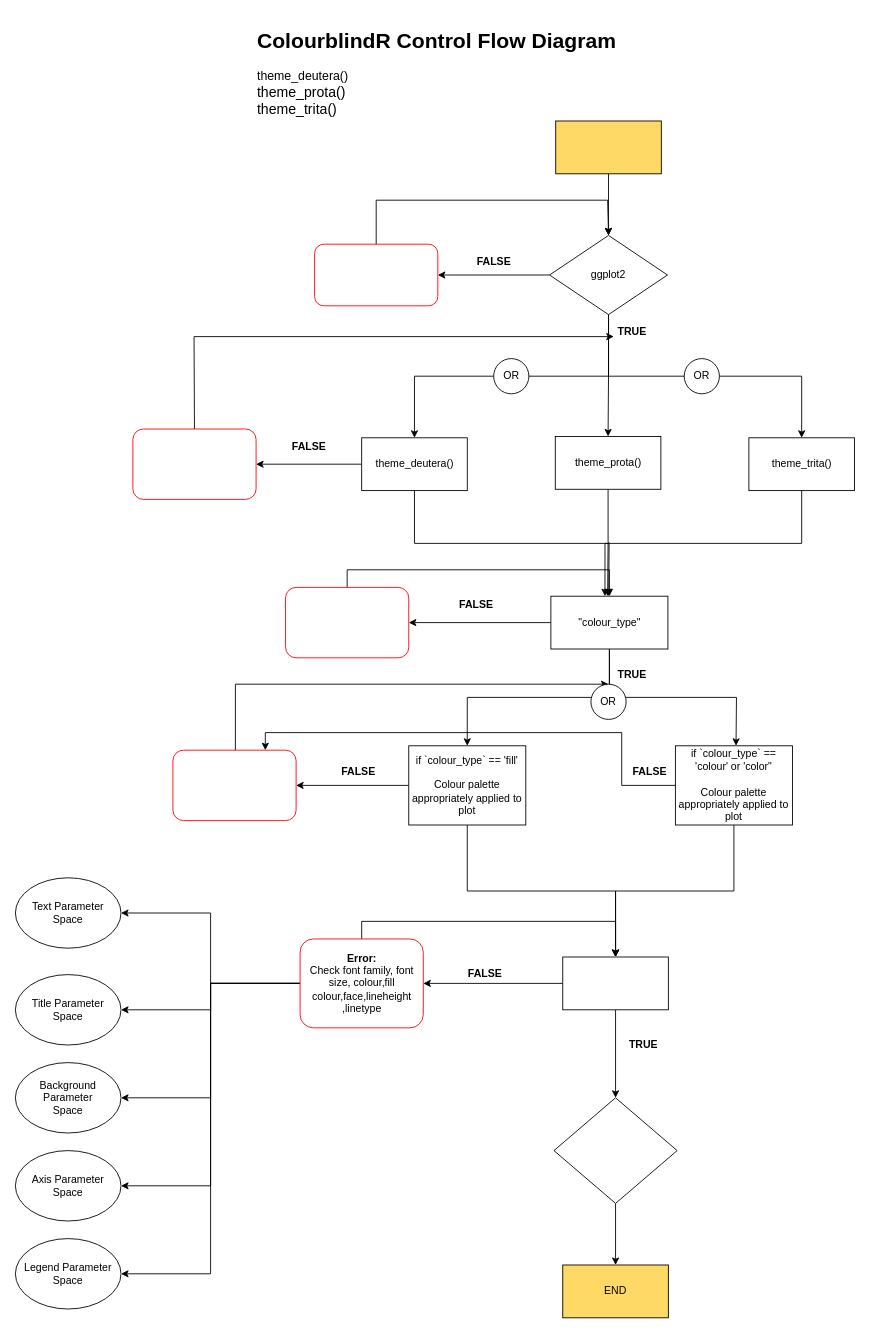
The diagram is 870 pixels wide and 1333 high, and some of its shapes have lost their labels. The centre of each missing label's shape, as x and y in pixels:
"ColourblindR plot" goes at [615,1150].
"Error: Check HexCode" goes at [234,785].
"Error: Mandatory arg." goes at [347,622].
"Error: Only an appropriate ColourblindR theme is accepted" goes at [194,463].
"Error: please create a ggplot2 object" goes at [376,274].
"Start" goes at [608,147].
"theme_base() taking effect" goes at [615,983].
